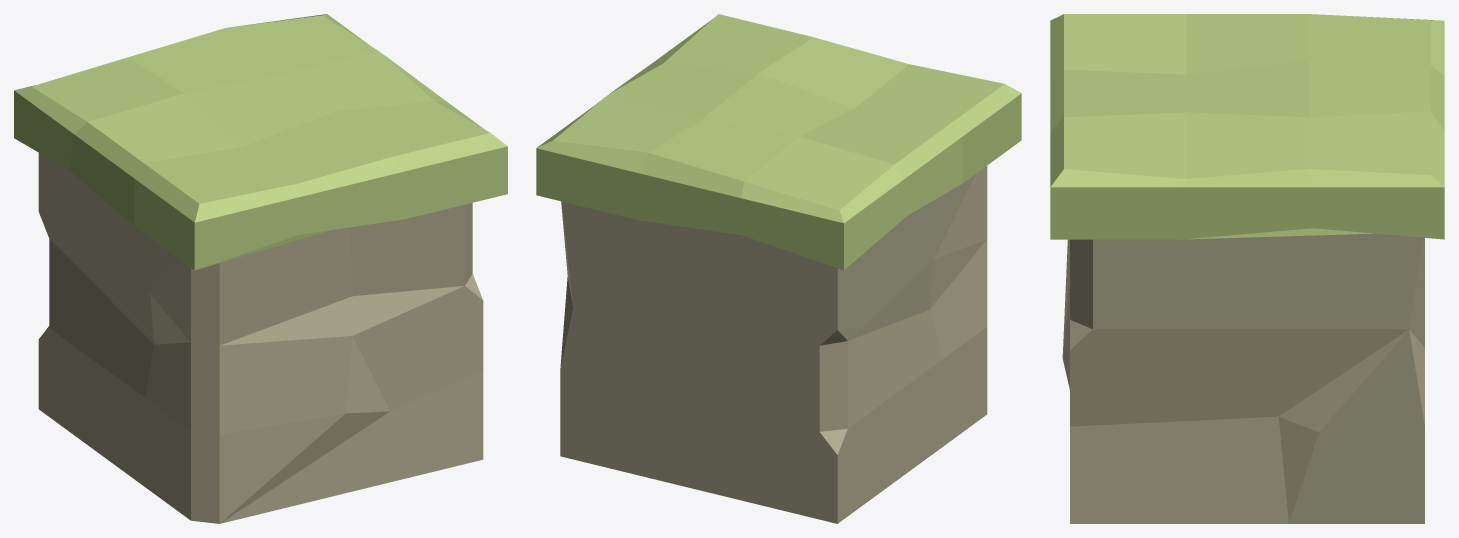
Rendered from testGroundSeg.fbx.
3 renders of one model, left to right at view 1: azimuth 30°, elevation 25°; view 2: azimuth 150°, elevation 25°; view 3: azimuth 270°, elevation 25°, orthographic. The views are drawn at different scales.
Visible parts, largest first — view 1: Cube.002; view 2: Cube.002; view 3: Cube.002.
Boxes of the visible parts, left/top/right/bottom form: Cube.002: left=14, top=14, right=507, bottom=523; Cube.002: left=536, top=14, right=1021, bottom=523; Cube.002: left=1050, top=14, right=1444, bottom=523.
Bounding box in the file's own units: 203 × 203 × 200.
